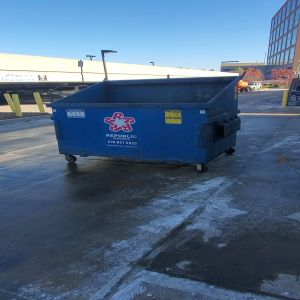Dumpster: (46, 75, 248, 175)
